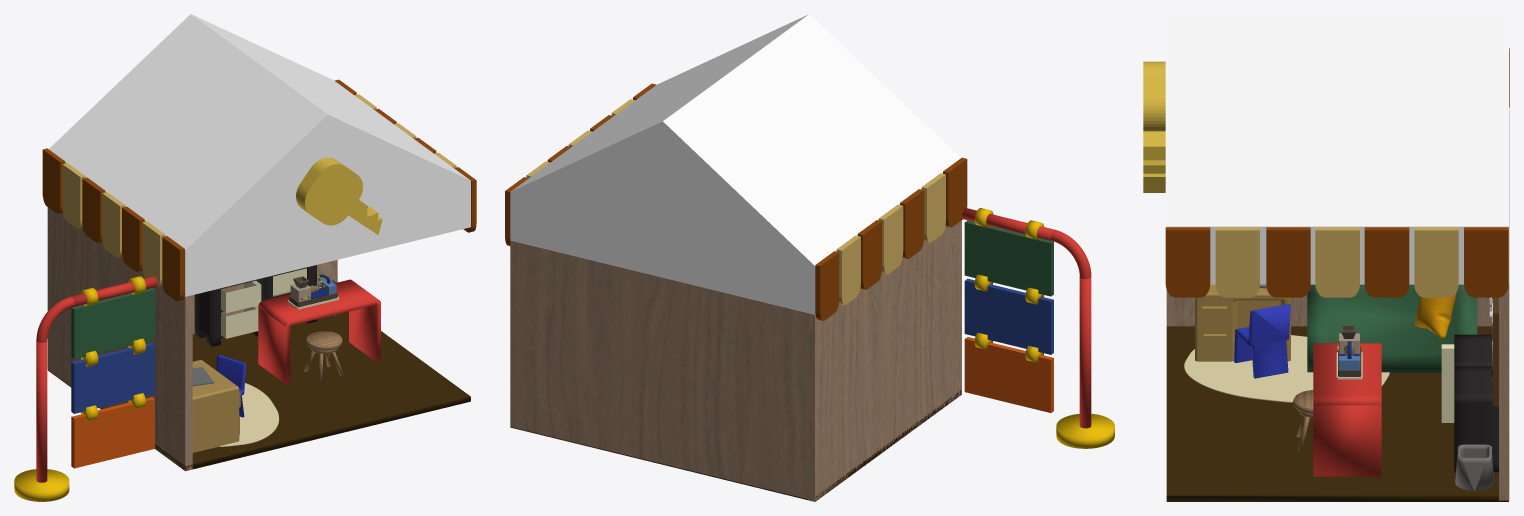
The model's file is key28.glb.
The picture shows the model from 3 angles, left to right: view 1: azimuth 30°, elevation 25°; view 2: azimuth 150°, elevation 25°; view 3: azimuth 270°, elevation 25°; orthographic projection. The views are drawn at different scales.
Visible parts, largest first — view 1: Cube.002, Cube.020, Cube.021, Cube.093, Cube.010, Cube.016, Cube.013, Cube.100, Cube.060, Cube.067, Cube.087, Cube.007 (+18 smaller); view 2: Cube.002, Cube.026, Cube.021, Cube.010, Cube.016, Cube.013, Cube.007, Cube.006, Cube.059, Cube.054, Cube.058, Cube.055 (+6 smaller); view 3: Cube.002, Cube.020, Cube.045, Cube.093, Cube.087, Cube.100, Cube.040, Cube.101, Cube.046, Cube.050, Cube.047, Cube.049 (+14 smaller).
Part boxes in pixels (x1,y1,x2,y2): Cube.002: (49, 14, 470, 296); Cube.020: (192, 311, 470, 464); Cube.021: (48, 208, 192, 470); Cube.093: (258, 279, 380, 383); Cube.010: (71, 288, 154, 359); Cube.016: (71, 397, 154, 468); Cube.013: (71, 342, 154, 413); Cube.100: (192, 360, 240, 452); Cube.060: (296, 157, 382, 234); Cube.067: (48, 370, 470, 471); Cube.087: (219, 383, 279, 446); Cube.007: (36, 341, 47, 482); Cube.002: (510, 14, 960, 315); Cube.026: (510, 240, 819, 500); Cube.021: (807, 220, 961, 501); Cube.010: (964, 220, 1053, 296); Cube.016: (964, 337, 1053, 412); Cube.013: (964, 278, 1053, 354); Cube.007: (1079, 277, 1091, 428); Cube.006: (1056, 414, 1114, 448); Cube.059: (815, 251, 839, 320); Cube.054: (921, 173, 945, 242); Cube.058: (836, 235, 860, 305); Cube.055: (900, 189, 924, 258); Cube.002: (1166, 14, 1508, 284); Cube.020: (1166, 326, 1498, 495); Cube.045: (1307, 284, 1477, 372); Cube.093: (1313, 343, 1381, 476); Cube.087: (1184, 335, 1389, 402); Cube.100: (1195, 284, 1290, 361); Cube.040: (1454, 366, 1498, 472); Cube.101: (1234, 304, 1290, 378); Cube.046: (1165, 227, 1210, 297); Cube.050: (1364, 227, 1409, 297); Cube.047: (1215, 227, 1259, 297); Cube.049: (1315, 227, 1359, 297).
Bounding box in the file's own units: 9.66 × 6.69 × 5.53.
71 materials, 11 textured.
